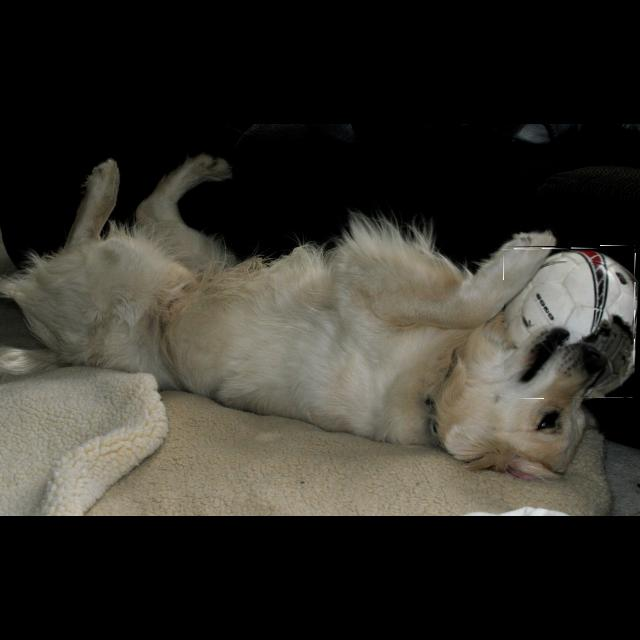Football: (504, 246, 640, 398)
